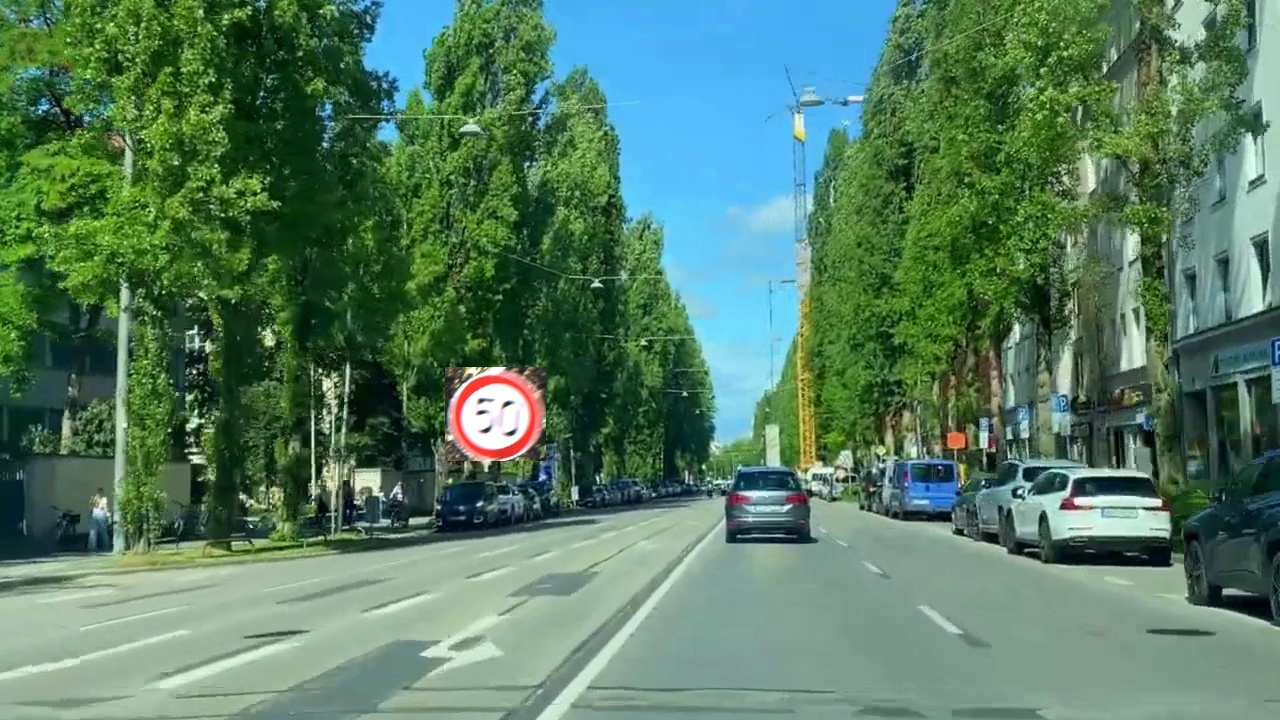Speed 50: (445, 367, 546, 461)
